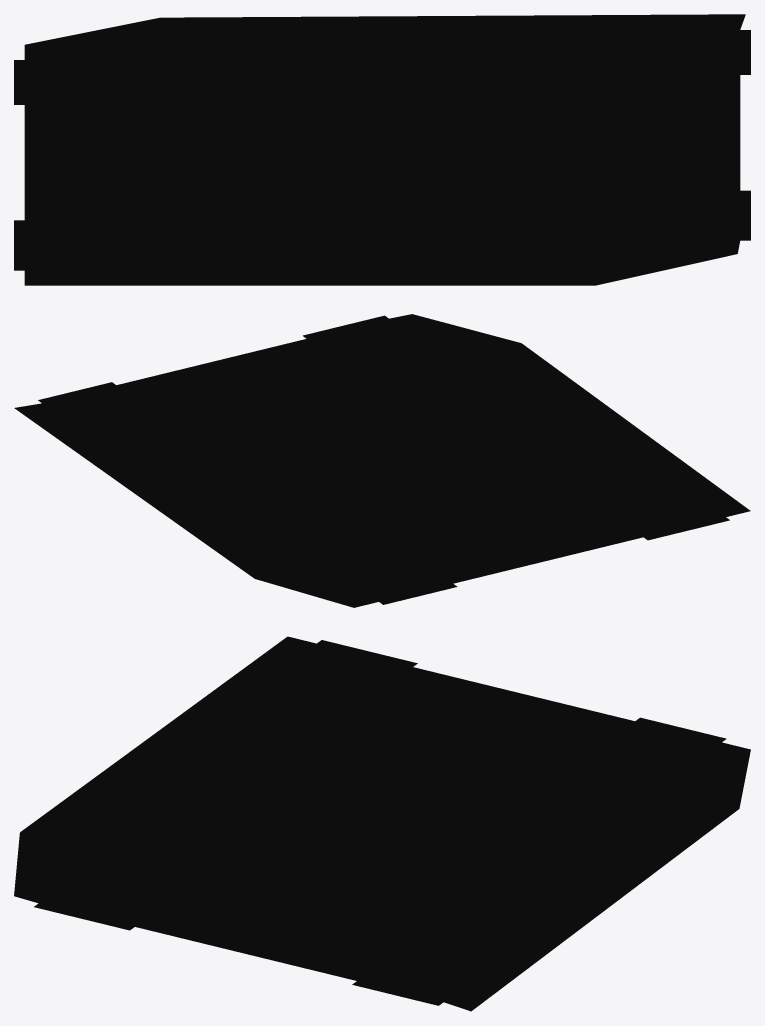
3 renders of one model, top to bottom at view 1: azimuth 30°, elevation 25°; view 2: azimuth 150°, elevation 25°; view 3: azimuth 270°, elevation 25°, orthographic. The views are drawn at different scales.
Visible parts, largest first — view 1: Joint_0_Object_0; view 2: Joint_0_Object_0; view 3: Joint_0_Object_0.
Part boxes in pixels (x1,y1,x2,y2): Joint_0_Object_0: [14, 14, 750, 285]; Joint_0_Object_0: [14, 314, 750, 607]; Joint_0_Object_0: [14, 636, 750, 1011].
Size of the model in its own units: 1249 by 0 by 1037.
Materials: 1 (1 with a texture image).
